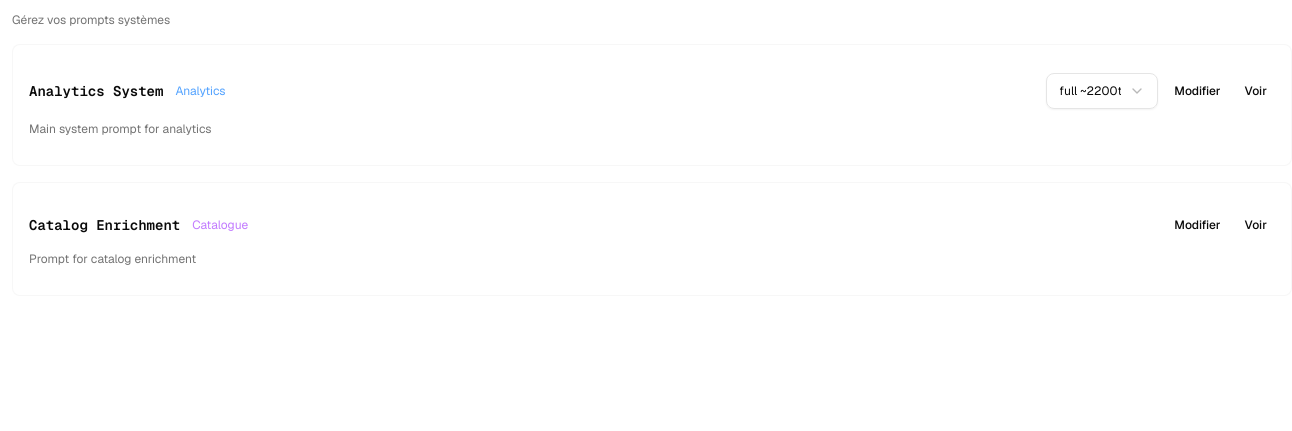
PromptsTab › Expand/Collapse › should collapse when Hide is clicked
Expected: the text "Analytics System" is shown, top-left (29, 81), bottom-right (163, 101)
Note: Expand first
Step 1. Click the button "Voir" in the row of "Analytics System" → (1256, 91), box top-left (1236, 77), bottom-right (1275, 105)
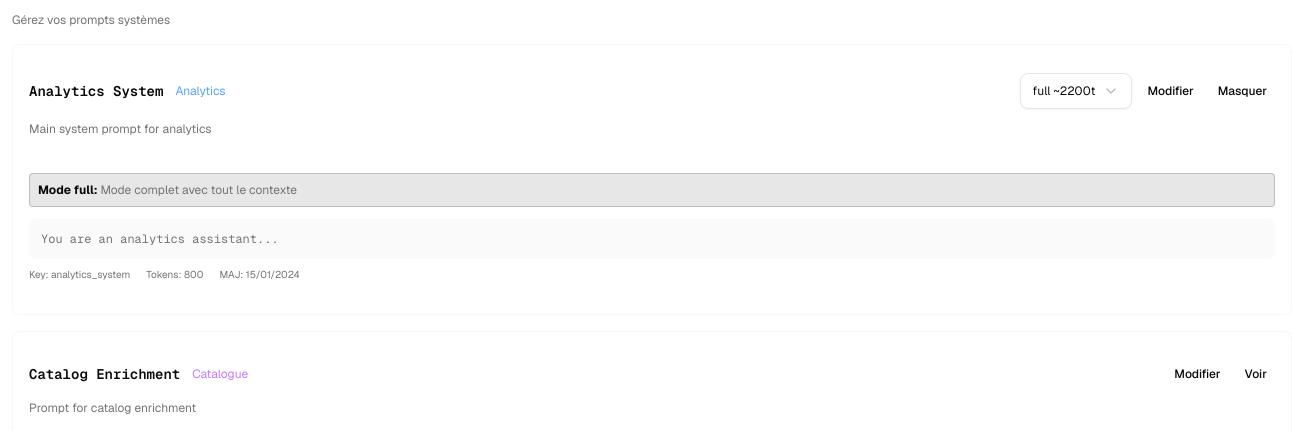
Expected: the button "Masquer" is shown
Step 2. Click the button "Masquer" → (1242, 91), box top-left (1210, 77), bottom-right (1275, 105)
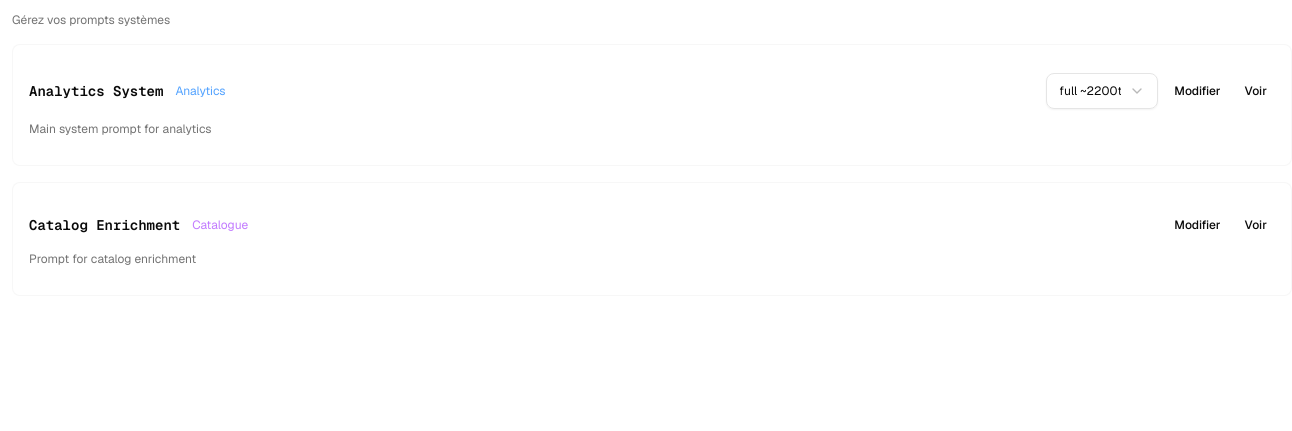
Expected: the text "You are an analytics assistant..." is gone
